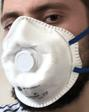with_mask: (1, 2, 89, 112)
